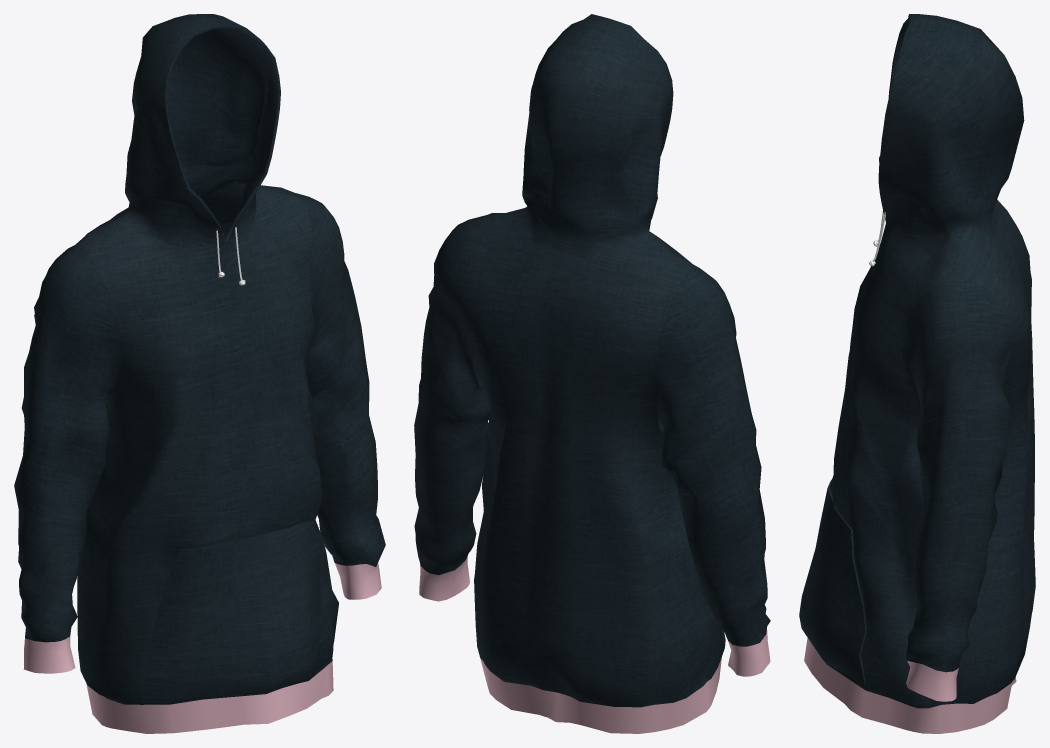
Rendered from hoodie2.gltf.
3 renders of one model, left to right at view 1: azimuth 30°, elevation 25°; view 2: azimuth 150°, elevation 25°; view 3: azimuth 270°, elevation 25°, orthographic. The views are drawn at different scales.
Visible parts, largest first — view 1: Body_lp, bottom_cuff, sleeve_cuffs; view 2: Body_lp, bottom_cuff, sleeve_cuffs; view 3: Body_lp, bottom_cuff, sleeve_cuffs.
Part boxes in pixels (left/top/right/bottom): Body_lp: left=14, top=14, right=385, bottom=704; bottom_cuff: left=86, top=642, right=333, bottom=733; sleeve_cuffs: left=23, top=562, right=381, bottom=673; Body_lp: left=414, top=14, right=770, bottom=707; bottom_cuff: left=480, top=657, right=721, bottom=733; sleeve_cuffs: left=419, top=557, right=770, bottom=676; Body_lp: left=799, top=14, right=1035, bottom=708; bottom_cuff: left=804, top=638, right=1016, bottom=733; sleeve_cuffs: left=906, top=661, right=958, bottom=701.
Bounding box in the file's own units: 4.27 × 7.77 × 2.51.
4 materials, 1 textured.
